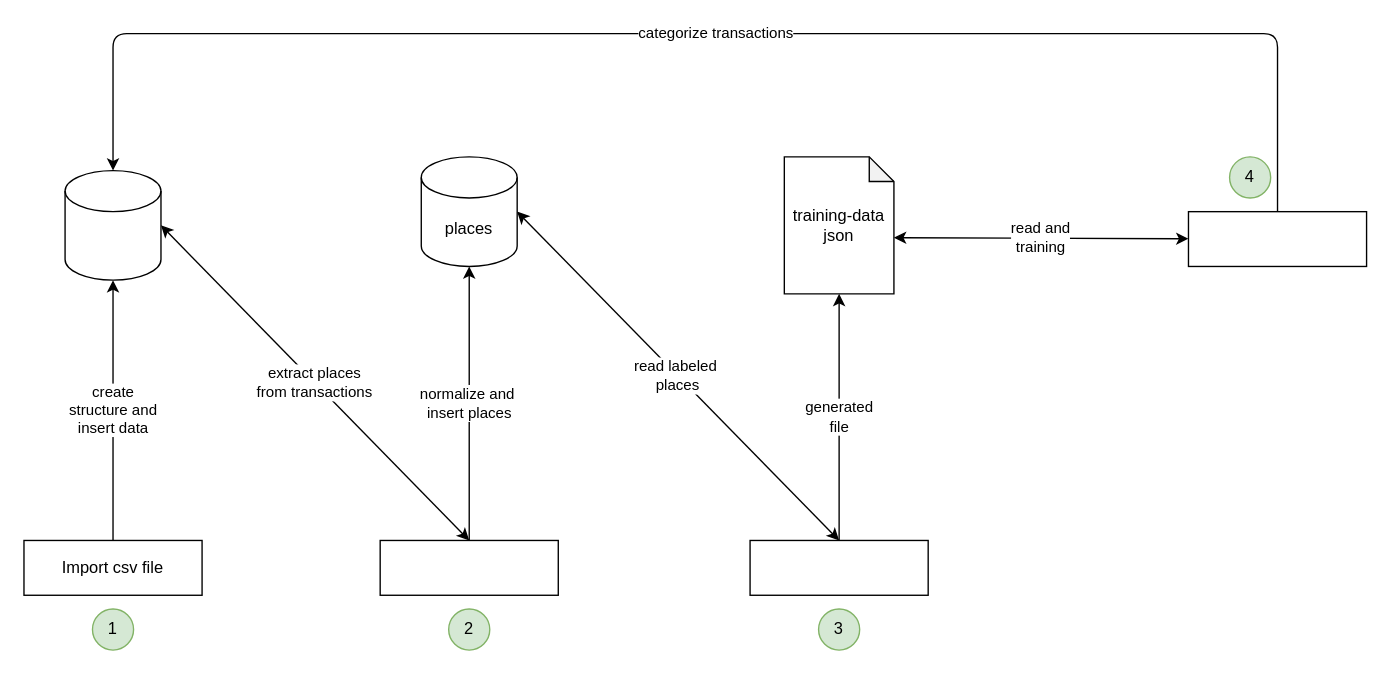
Image size: 1391x674. Some labels were removed from this diagram. The centre of each missing label's shape, as x and y in pixels:
npm run export:labeled-places: point 838,567
npm run extract:places: point 468,567
statements: point 112,224
Tensorflow.js: point 1277,238
